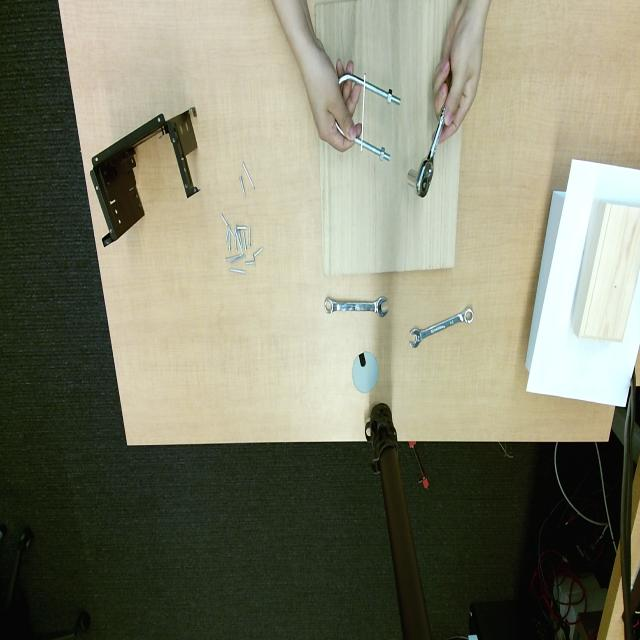wrench: (408, 104, 445, 198), (410, 307, 474, 346), (325, 296, 388, 318)
